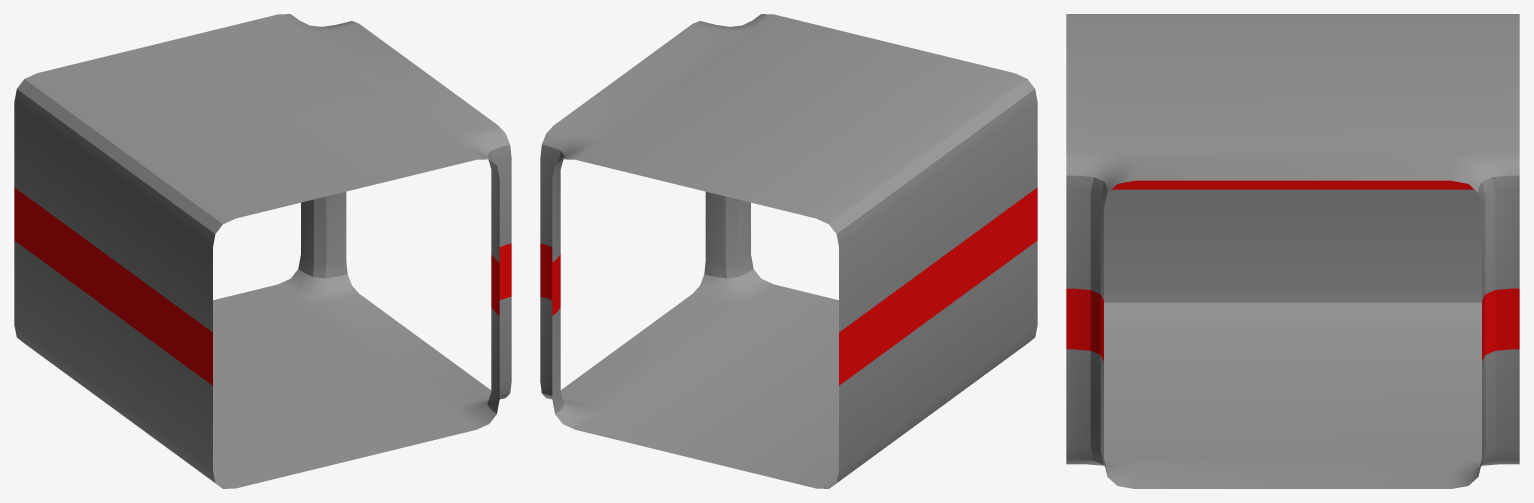
File: HallWay_TIntersection_001.FBX
The picture shows the model from 3 angles, left to right: view 1: azimuth 30°, elevation 25°; view 2: azimuth 150°, elevation 25°; view 3: azimuth 270°, elevation 25°; orthographic projection. The views are drawn at different scales.
Parts seen in each view (by area): view 1: HallWay_TIntersection_001; view 2: HallWay_TIntersection_001; view 3: HallWay_TIntersection_001.
Boxes of the visible parts, x1,y1,x2,y2 form: HallWay_TIntersection_001: [14, 14, 511, 488]; HallWay_TIntersection_001: [540, 14, 1037, 488]; HallWay_TIntersection_001: [1066, 14, 1519, 488].
Size of the model in its own units: 2.75 by 2.25 by 3.
